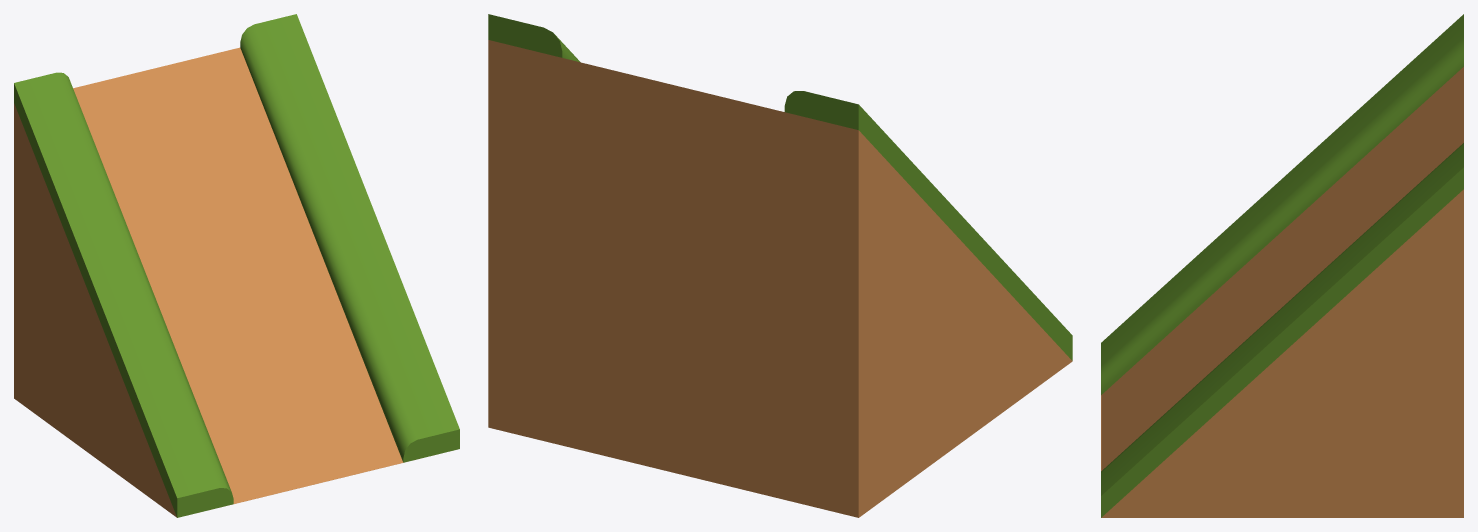
Rendered from TileMiringSolo.fbx.
3 renders of one model, left to right at view 1: azimuth 30°, elevation 25°; view 2: azimuth 150°, elevation 25°; view 3: azimuth 270°, elevation 25°, orthographic. The views are drawn at different scales.
Visible parts, largest first — view 1: Tile_Road_Solo; view 2: Tile_Road_Solo; view 3: Tile_Road_Solo.
Boxes of the visible parts, x1,y1,x2,y2 form: Tile_Road_Solo: [14, 14, 459, 517]; Tile_Road_Solo: [488, 14, 1072, 517]; Tile_Road_Solo: [1101, 14, 1463, 517].
Size of the model in its own units: 200 by 213 by 200.
